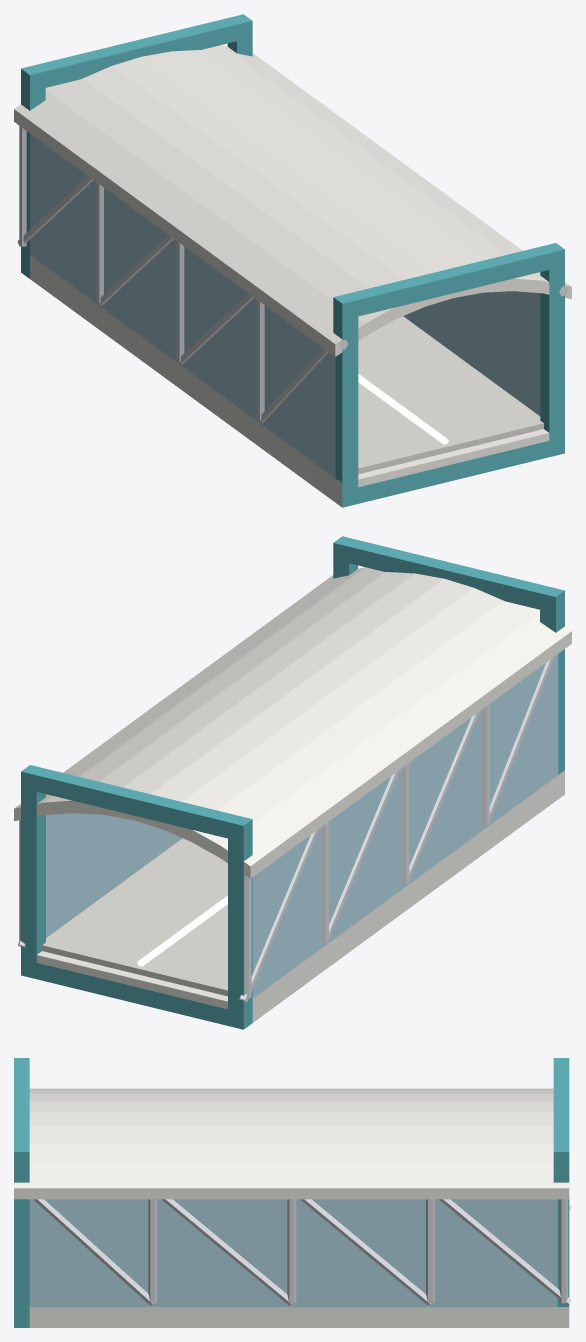
File: arcology-towers-and-skyways-skybridge-straight-span-sh-2756c048__23244.glb
The picture shows the model from 3 angles, top to bottom: view 1: azimuth 30°, elevation 25°; view 2: azimuth 150°, elevation 25°; view 3: azimuth 270°, elevation 25°; orthographic projection. The views are drawn at different scales.
Visible parts, largest first — view 1: skybridge-straight-span-short; view 2: skybridge-straight-span-short; view 3: skybridge-straight-span-short.
Part boxes in pixels (x1,y1,x2,y2): skybridge-straight-span-short: [14, 14, 571, 507]; skybridge-straight-span-short: [14, 536, 571, 1029]; skybridge-straight-span-short: [14, 1058, 571, 1327].
Size of the model in its own units: 5.1 by 4.2 by 12.06.
